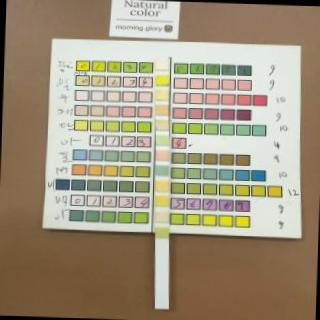mark: (156, 56, 170, 70), (154, 194, 169, 207), (154, 225, 168, 238), (154, 180, 169, 192), (154, 210, 168, 222), (155, 164, 169, 176), (155, 150, 169, 162), (156, 74, 170, 85), (156, 134, 169, 145), (156, 119, 169, 130), (156, 88, 169, 99), (156, 104, 168, 115)
